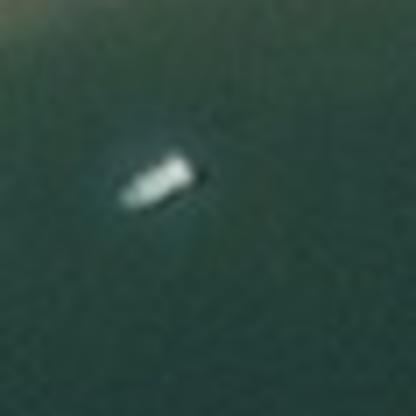ship: (106, 136, 211, 220)
